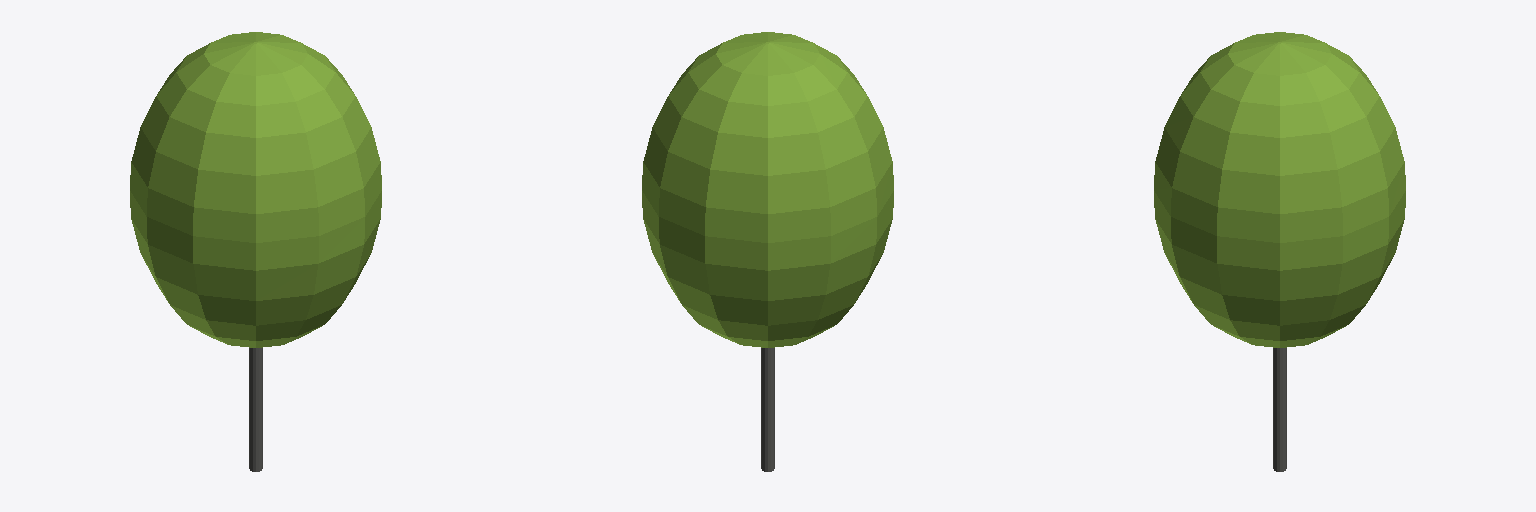
File: Black_Locust_Analytical_0.obj
The picture shows the model from 3 angles: view 1: azimuth 30°, elevation 25°; view 2: azimuth 150°, elevation 25°; view 3: azimuth 270°, elevation 25°; orthographic projection.
Visible parts, largest first — view 1: AnalyticalCrown, AnalyticalTrunk; view 2: AnalyticalCrown, AnalyticalTrunk; view 3: AnalyticalCrown, AnalyticalTrunk.
Part boxes in pixels (x1,y1,x2,y2): AnalyticalCrown: (130, 32, 381, 347); AnalyticalTrunk: (249, 348, 262, 471); AnalyticalCrown: (642, 32, 893, 347); AnalyticalTrunk: (761, 348, 774, 471); AnalyticalCrown: (1154, 32, 1405, 347); AnalyticalTrunk: (1273, 348, 1286, 471).
Size of the model in its own units: 6.98 by 13 by 6.98.